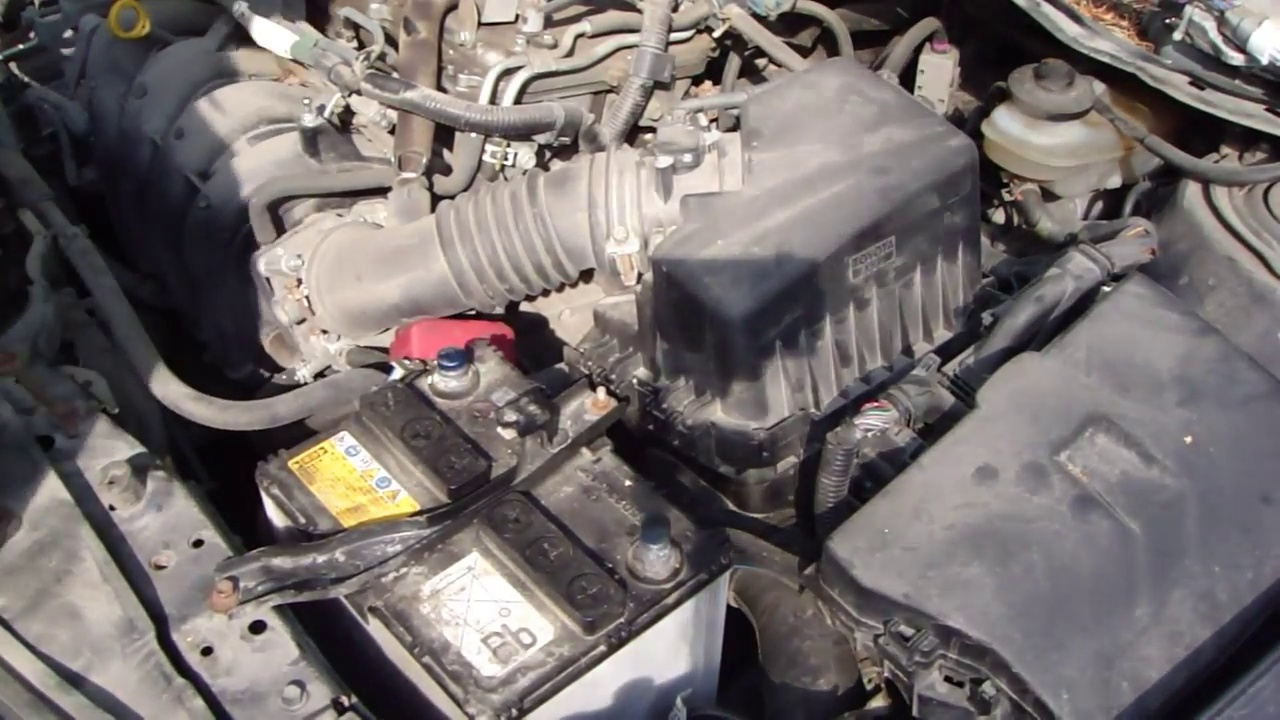battery: (264, 342, 748, 684)
neg_disconnected: (603, 509, 701, 602)
pos_disconnected: (359, 308, 520, 411)
